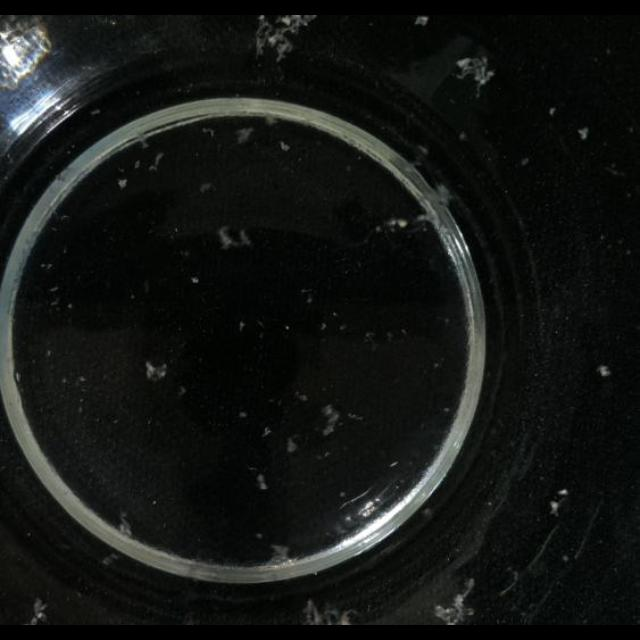Fibre: (254, 15, 318, 63), (435, 579, 485, 625), (296, 594, 364, 626), (455, 53, 497, 95), (8, 598, 54, 626), (215, 226, 252, 250), (318, 404, 342, 438), (144, 360, 168, 382), (234, 127, 254, 145), (270, 544, 290, 562), (116, 514, 132, 536), (102, 552, 120, 566), (198, 182, 214, 194), (256, 474, 268, 490), (286, 438, 298, 454)
microbeads: (598, 363, 610, 385), (548, 500, 560, 516), (577, 126, 589, 140), (116, 178, 128, 190), (414, 16, 428, 26), (556, 489, 568, 497), (549, 107, 557, 117)
